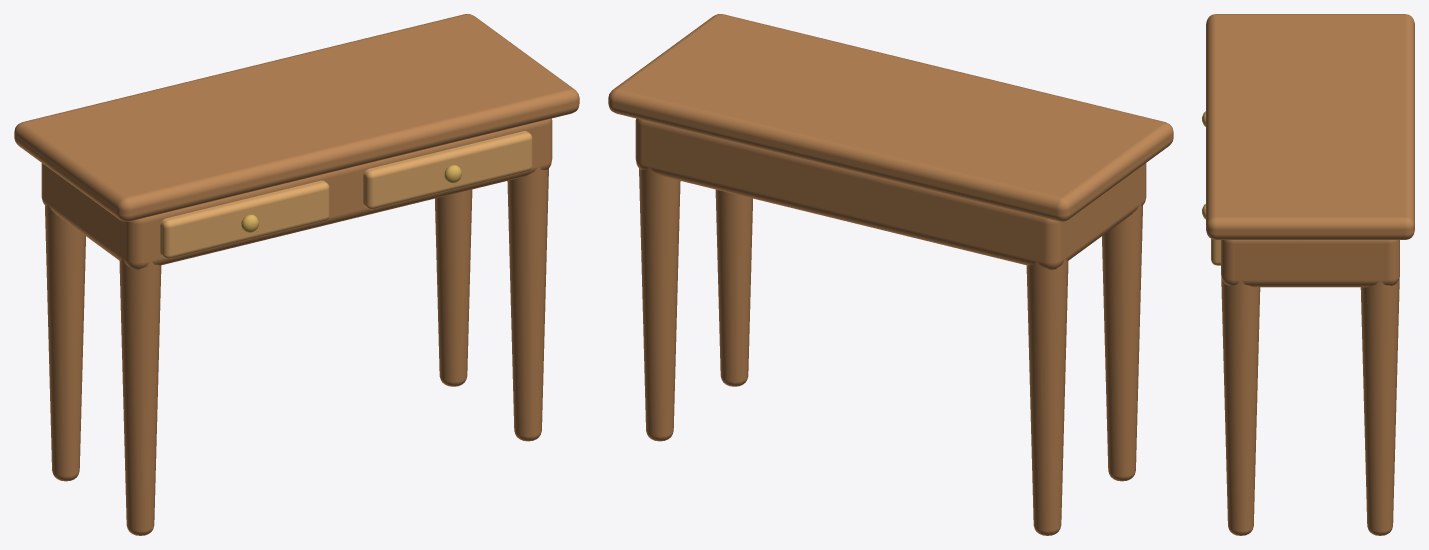
Rendered from antique_console_table.glb.
3 renders of one model, left to right at view 1: azimuth 30°, elevation 25°; view 2: azimuth 150°, elevation 25°; view 3: azimuth 270°, elevation 25°, orthographic. The views are drawn at different scales.
Visible parts, largest first — view 1: antique_console_table_mesh; view 2: antique_console_table_mesh; view 3: antique_console_table_mesh.
Boxes of the visible parts, x1,y1,x2,y2 form: antique_console_table_mesh: (14,14,579,535); antique_console_table_mesh: (608,14,1173,535); antique_console_table_mesh: (1202,14,1414,535).
Size of the model in its own units: 1 by 0.73 by 0.4282.
